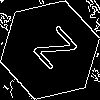Z: (25, 25, 78, 79)
